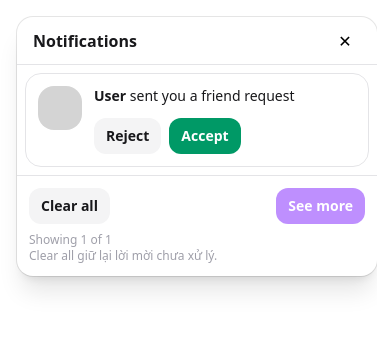
Test case: shows the server explanation when accepting a revoked invitation
Click the button "Accept": (205,136) [169,118,241,154]
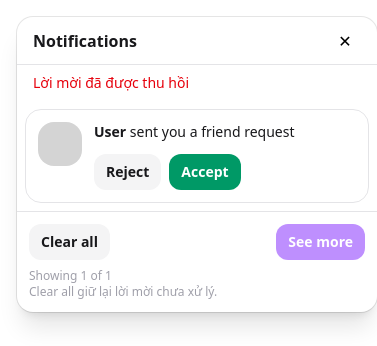
Result: the message reads "Lời mời đã được thu hồi" at [33,73,189,92]
